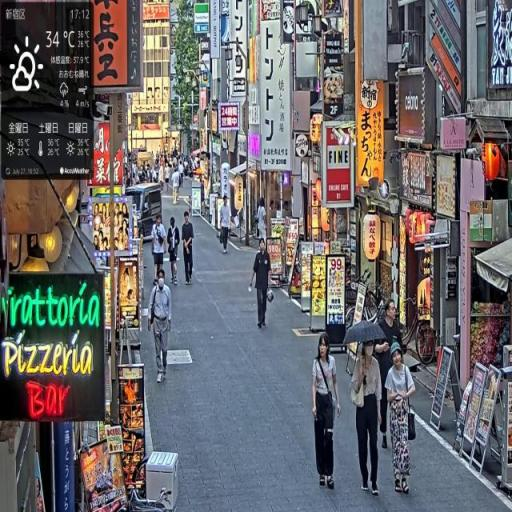person: (350, 337, 384, 498), (312, 334, 343, 494), (386, 345, 418, 499), (149, 269, 174, 384), (250, 238, 275, 331), (152, 214, 169, 283), (181, 210, 195, 288), (167, 213, 181, 287), (219, 196, 233, 256)
